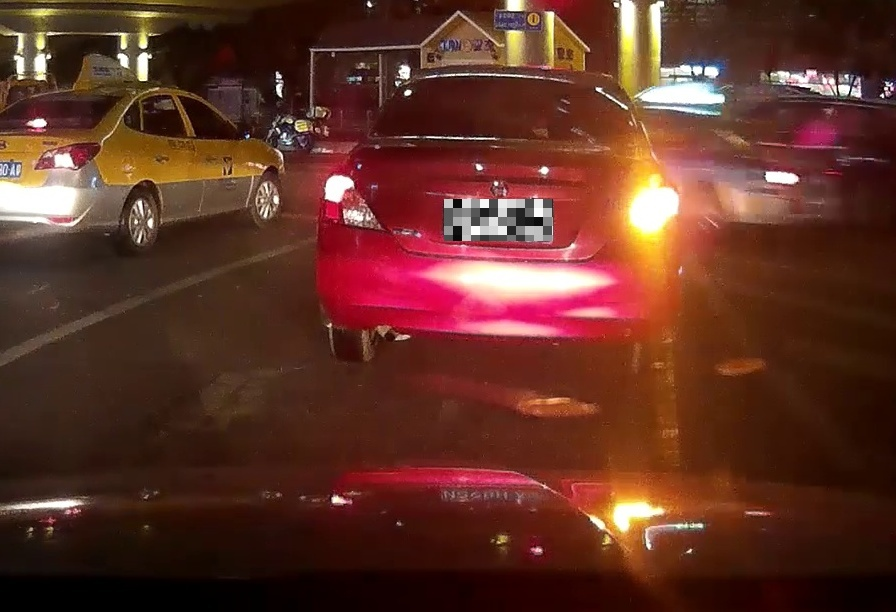L_light: (318, 170, 394, 233)
R_light: (626, 184, 678, 235)
T_light: (489, 75, 538, 82)
night-right: (315, 63, 681, 378)
plate_1: (444, 199, 553, 241)
